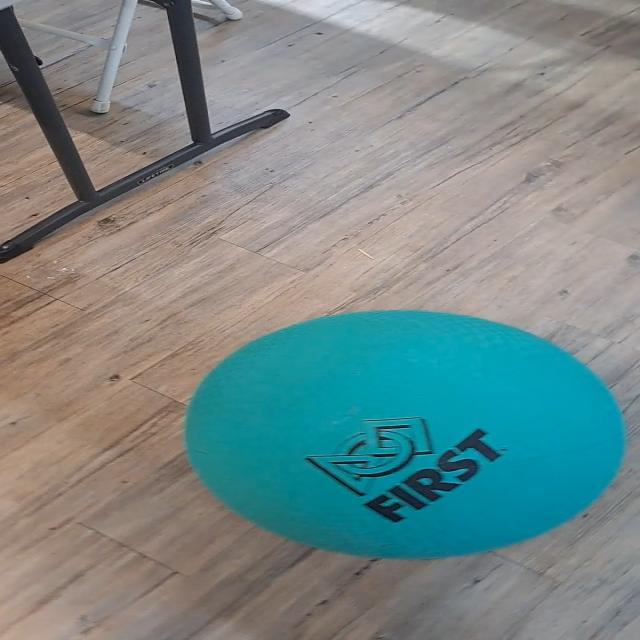ALGAE: (180, 308, 628, 560)
